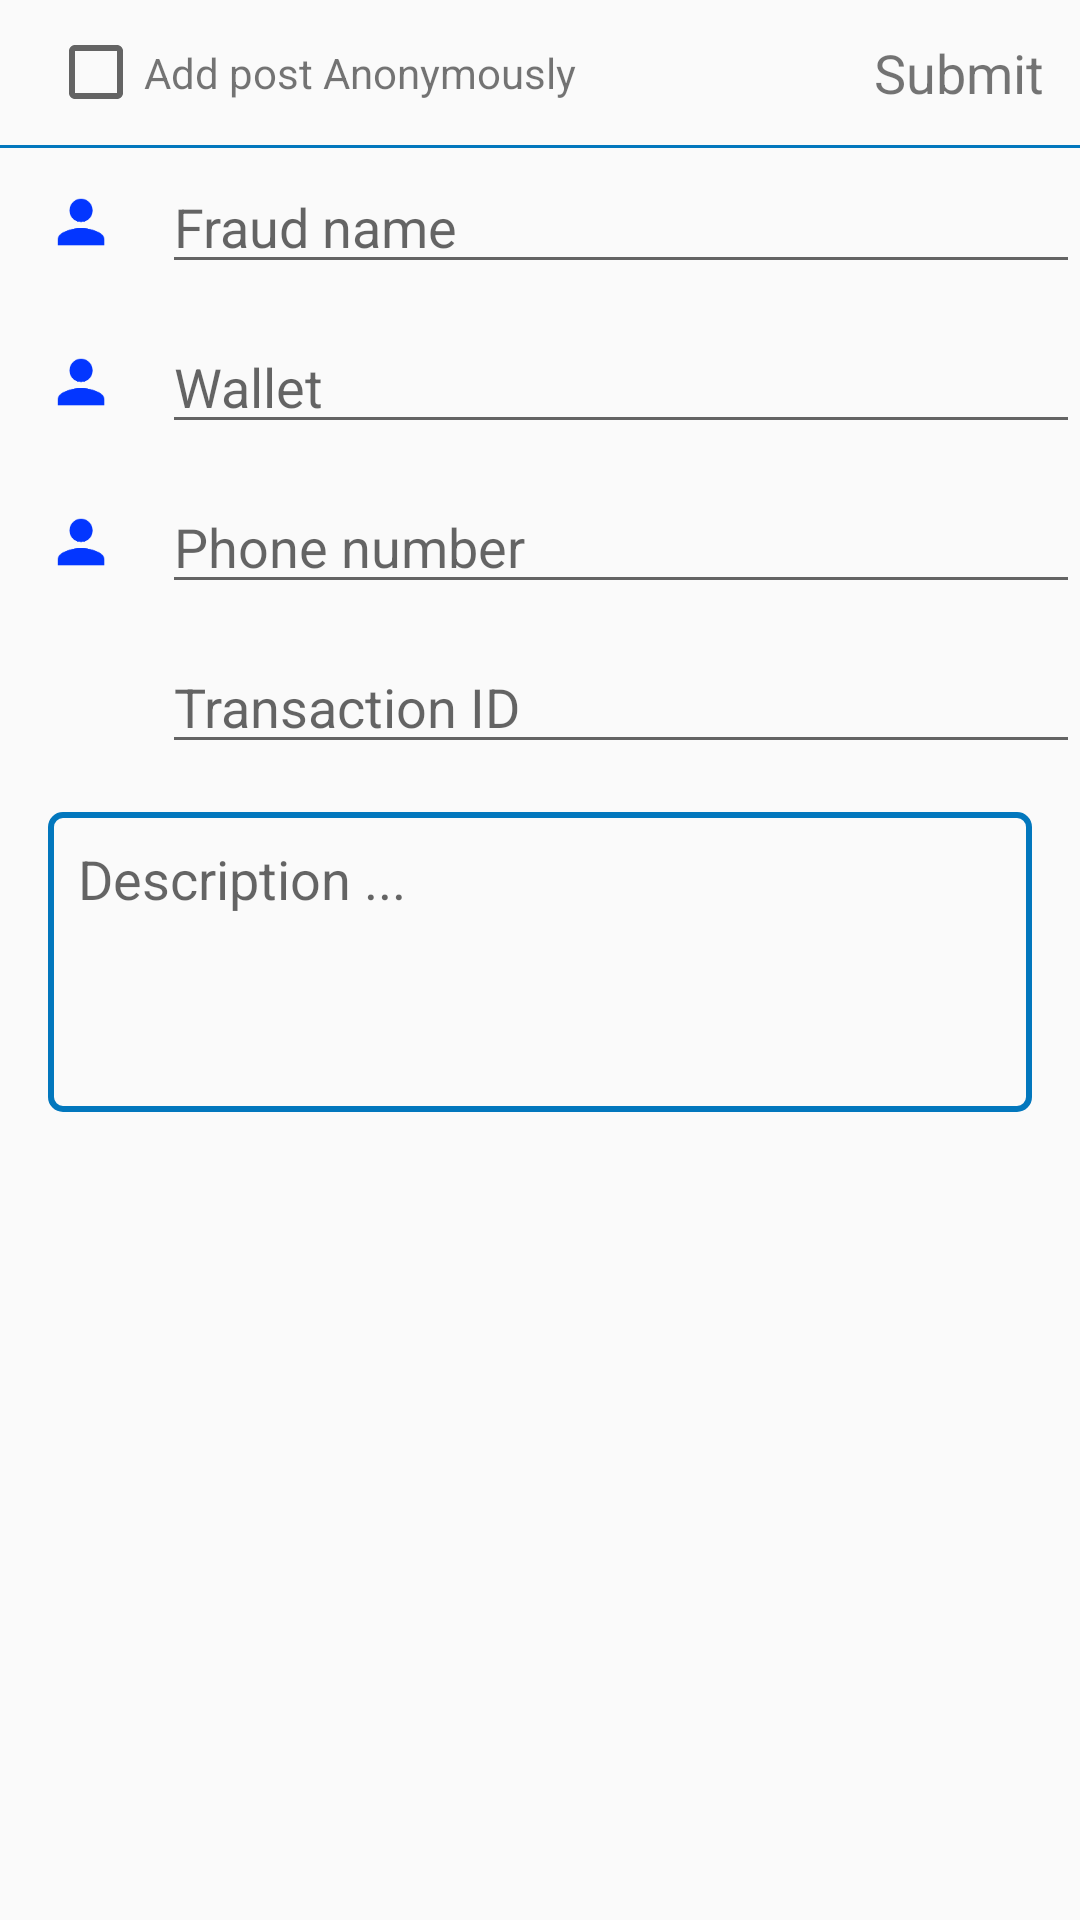

Named icons in this screenshot (1080×1920) and their bounding boxes, (x1, y1, x2, y2):
person: (57, 198, 105, 246), (57, 358, 105, 406), (57, 518, 105, 566)
